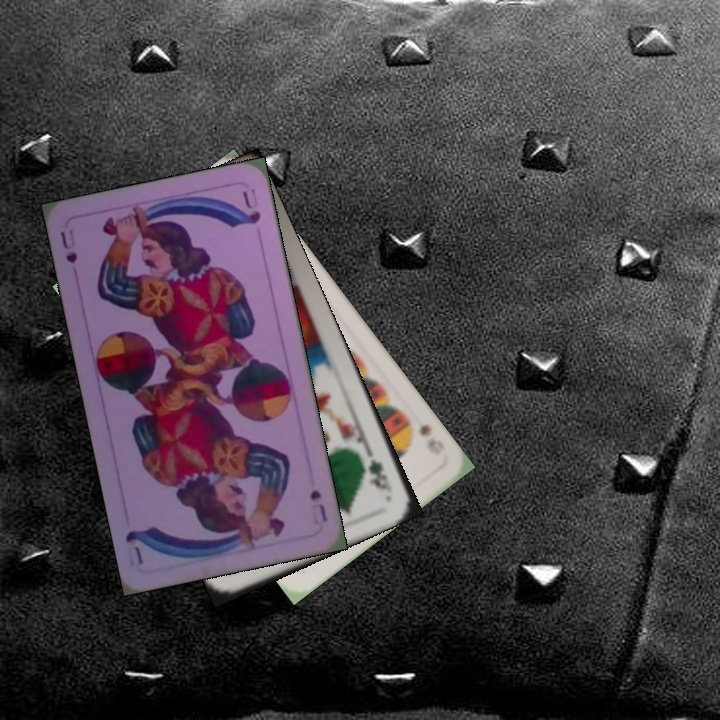GK: (362, 445, 395, 495)
S9: (401, 413, 434, 439)
SU: (306, 485, 330, 525), (56, 227, 80, 266)
